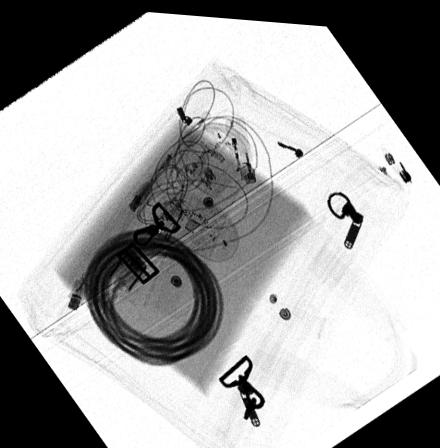Lighter: (222, 109, 254, 181)
